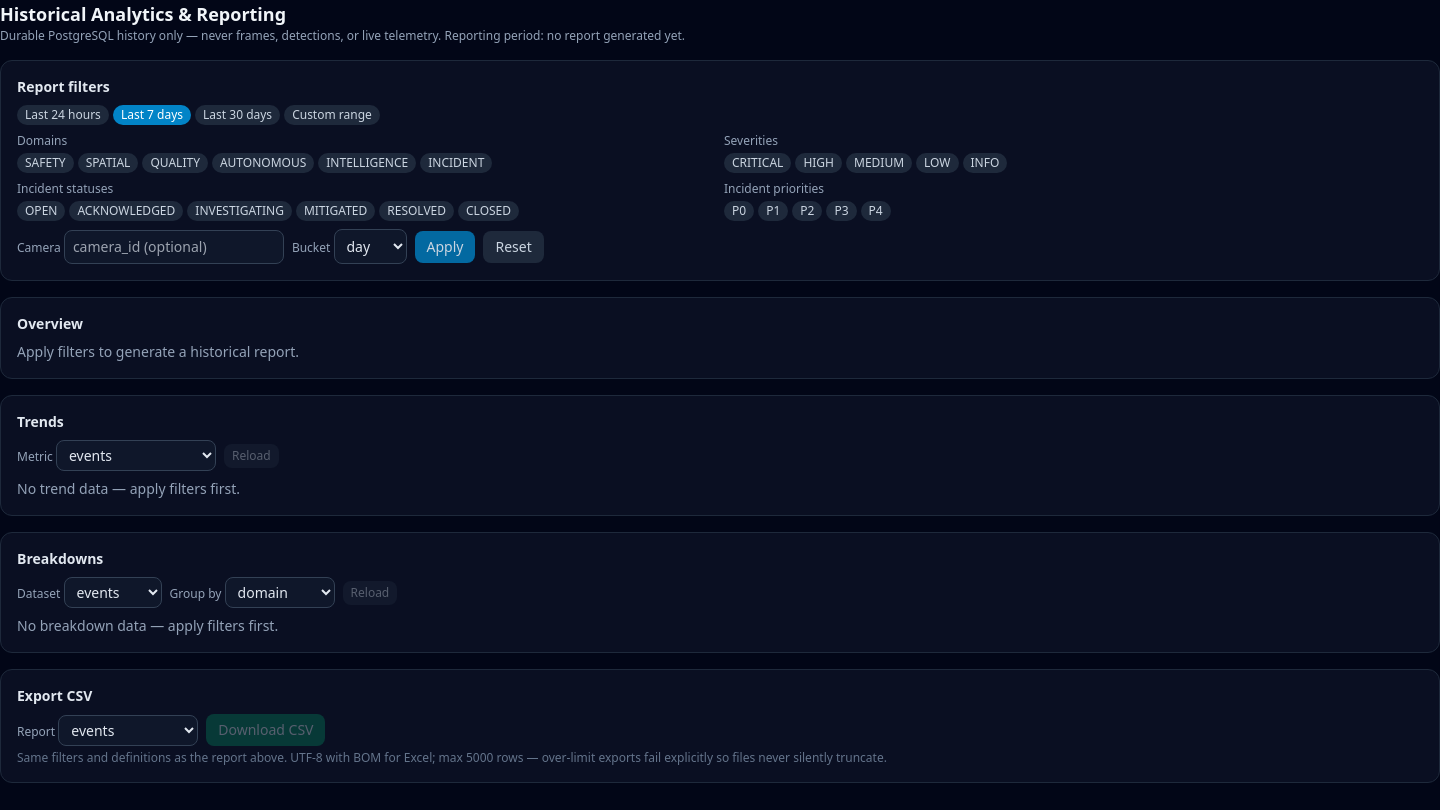
AnalyticsPage › isolates a failed section from healthy ones
Step 1. Click the button "Apply" → click(445, 246), box [414,230,475,262]
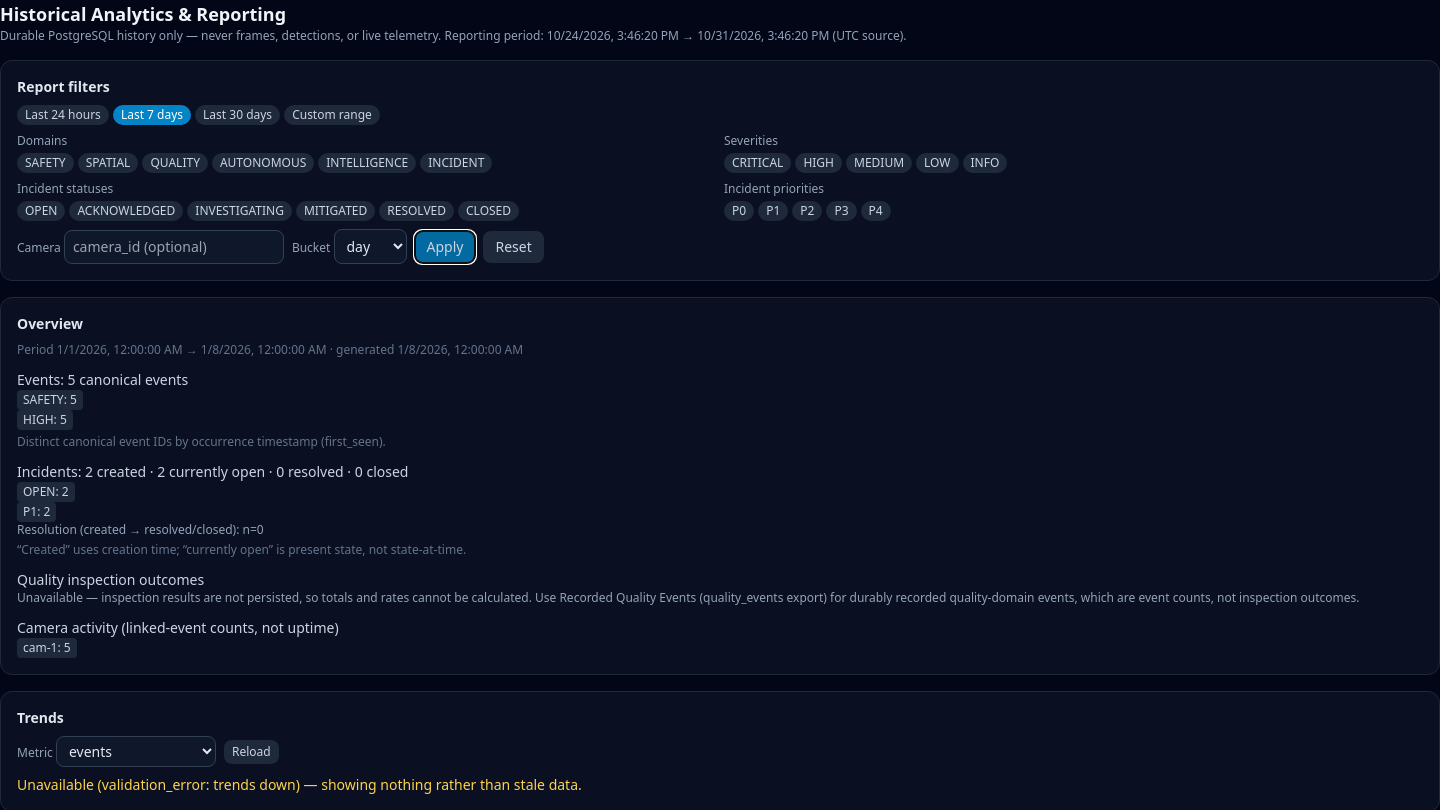
Check: the text "Events: 5 canonical events" is shown, box [17,370,188,389]
Check: the text "trends down" is shown, box [94,775,300,794]
